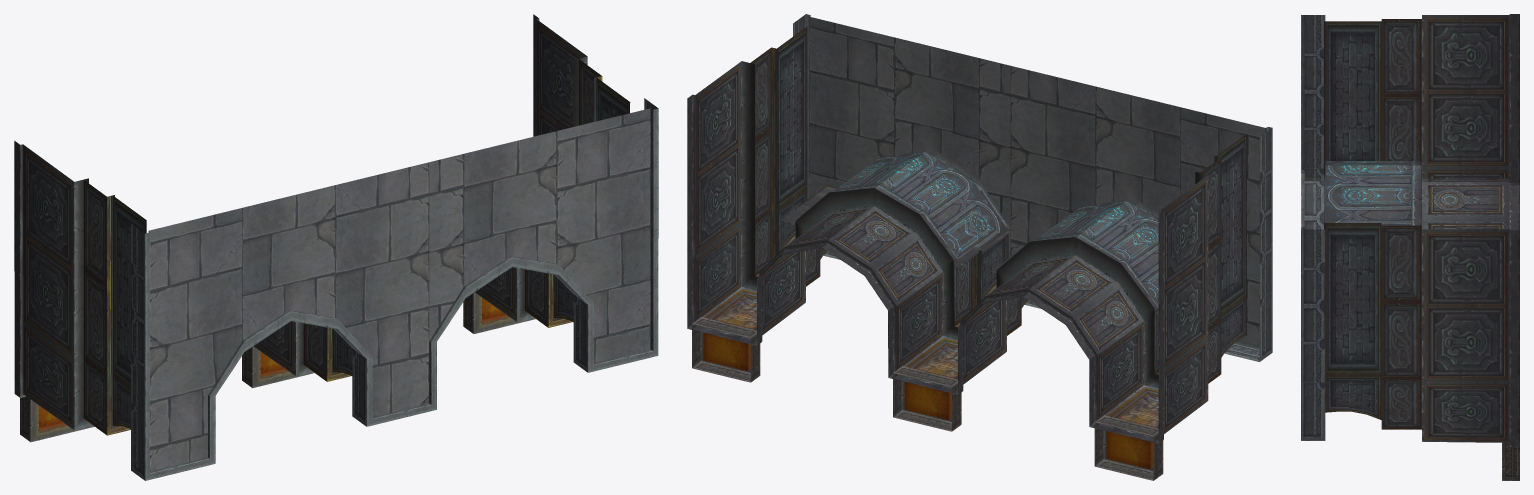
Rendered from huodong_fuben_651_pingtai02_qiang04.obj.
3 renders of one model, left to right at view 1: azimuth 30°, elevation 25°; view 2: azimuth 150°, elevation 25°; view 3: azimuth 270°, elevation 25°, orthographic. The views are drawn at different scales.
Visible parts, largest first — view 1: huodong_fuben_651_pingtai02_qiang04; view 2: huodong_fuben_651_pingtai02_qiang04; view 3: huodong_fuben_651_pingtai02_qiang04.
Boxes of the visible parts, x1,y1,x2,y2 form: huodong_fuben_651_pingtai02_qiang04: (14, 14, 658, 480); huodong_fuben_651_pingtai02_qiang04: (687, 14, 1272, 480); huodong_fuben_651_pingtai02_qiang04: (1301, 14, 1519, 480).
Bounding box in the file's own units: 1357 × 739 × 580.
Materials: 3 (3 with a texture image).
